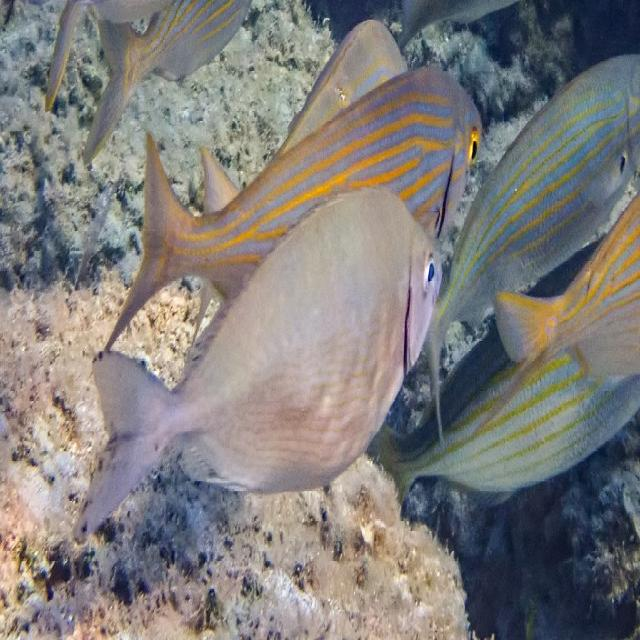Sokar Baligi: (68, 172, 452, 582)
